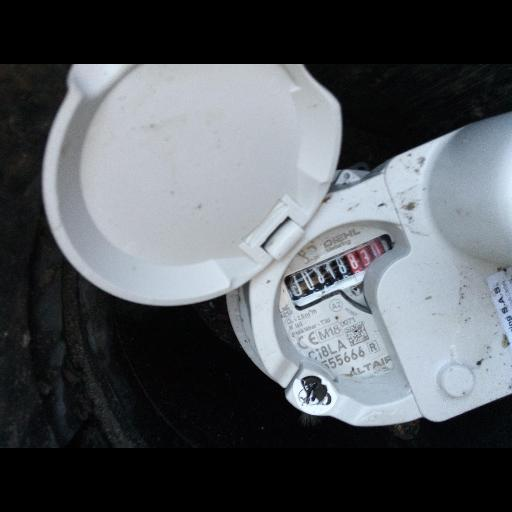0: (284, 271, 308, 301), (297, 265, 321, 295), (367, 236, 386, 258)
1: (322, 256, 343, 284)
3: (356, 241, 377, 269)
8: (310, 261, 332, 290), (331, 252, 353, 280), (343, 246, 365, 274)
border_water_meter_number: (282, 233, 403, 313)
